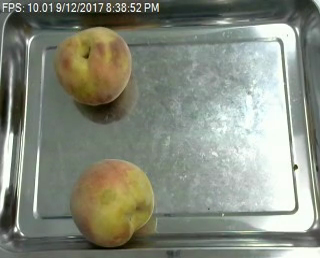Peach: (69, 158, 155, 248), (53, 26, 133, 106)
